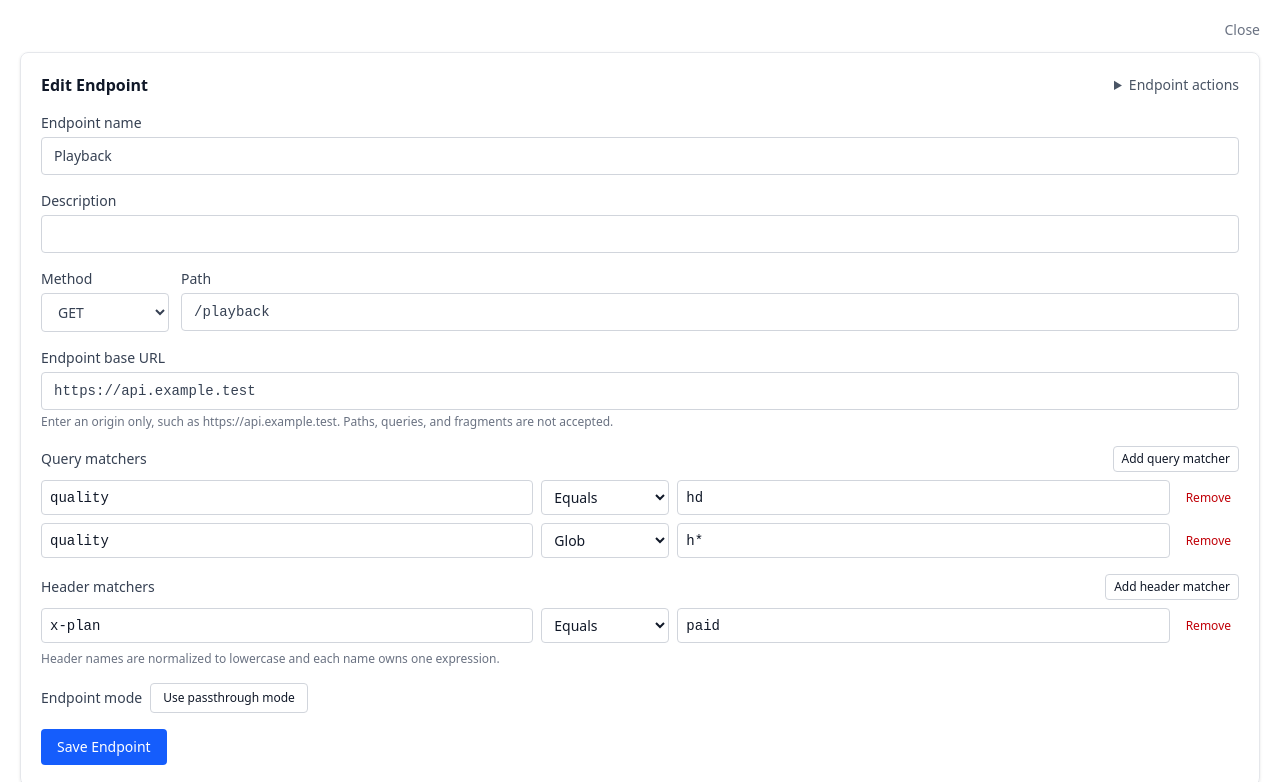
EndpointEditor › gives Endpoint mode one owner and preserves dirty matcher drafts on conflict
Replace the text in the field named "Endpoint path" with "/dirty-path" at (710, 312), box [181,293,1239,331]
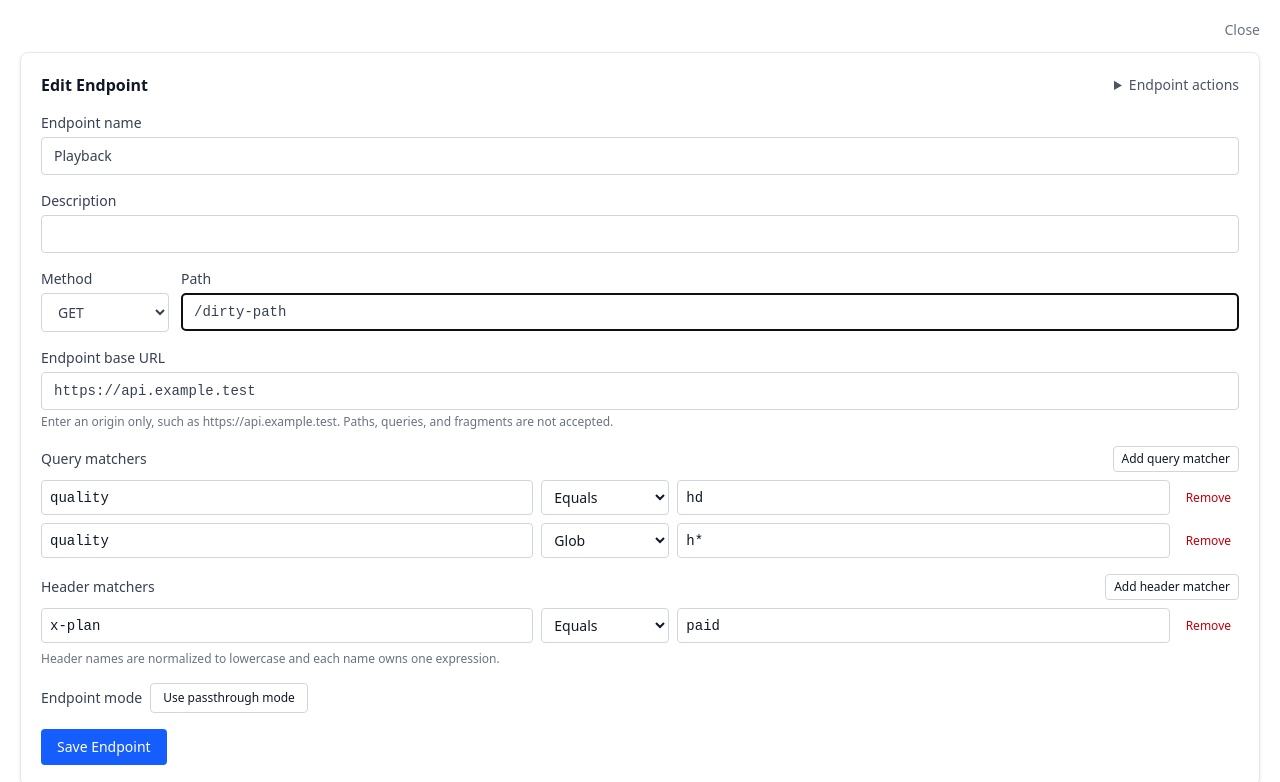
Click the button "Use passthrough mode" at (229, 698), box [150,683,308,713]
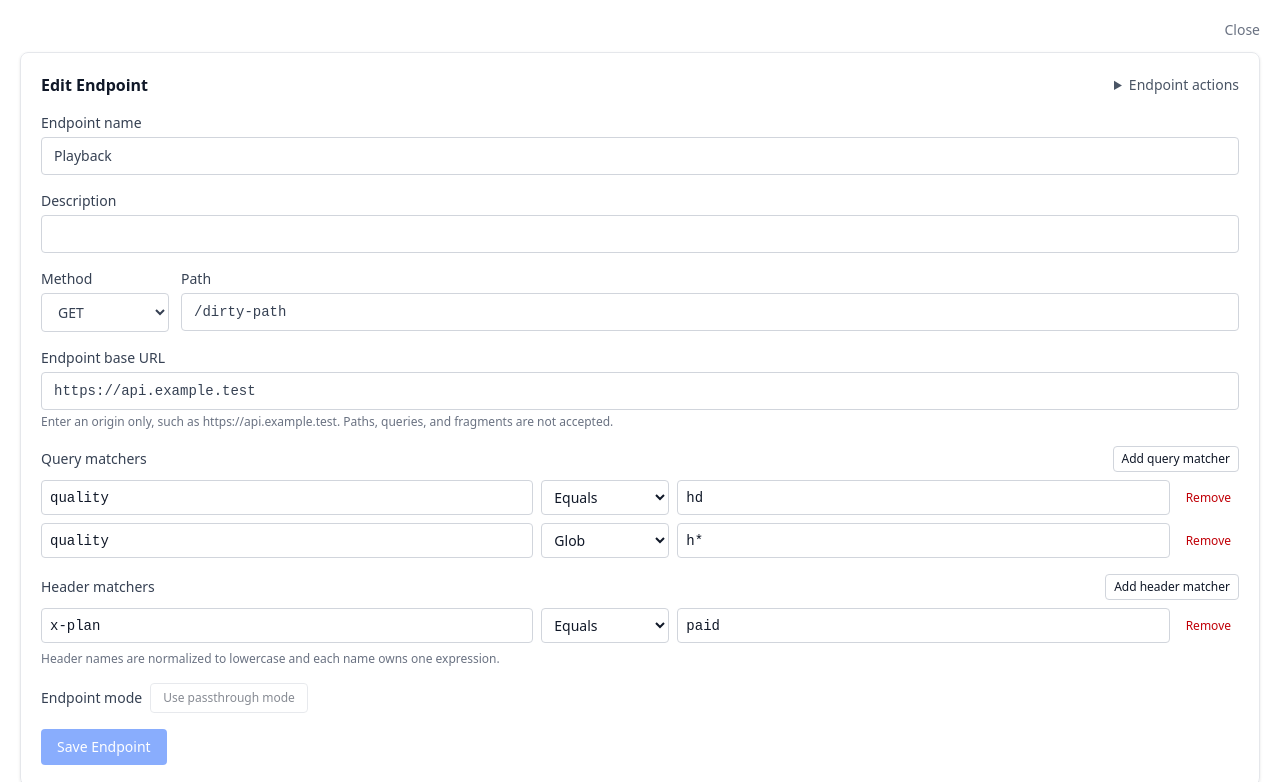
Click the button "Use passthrough mode" at (229, 698), box [150,683,308,713]
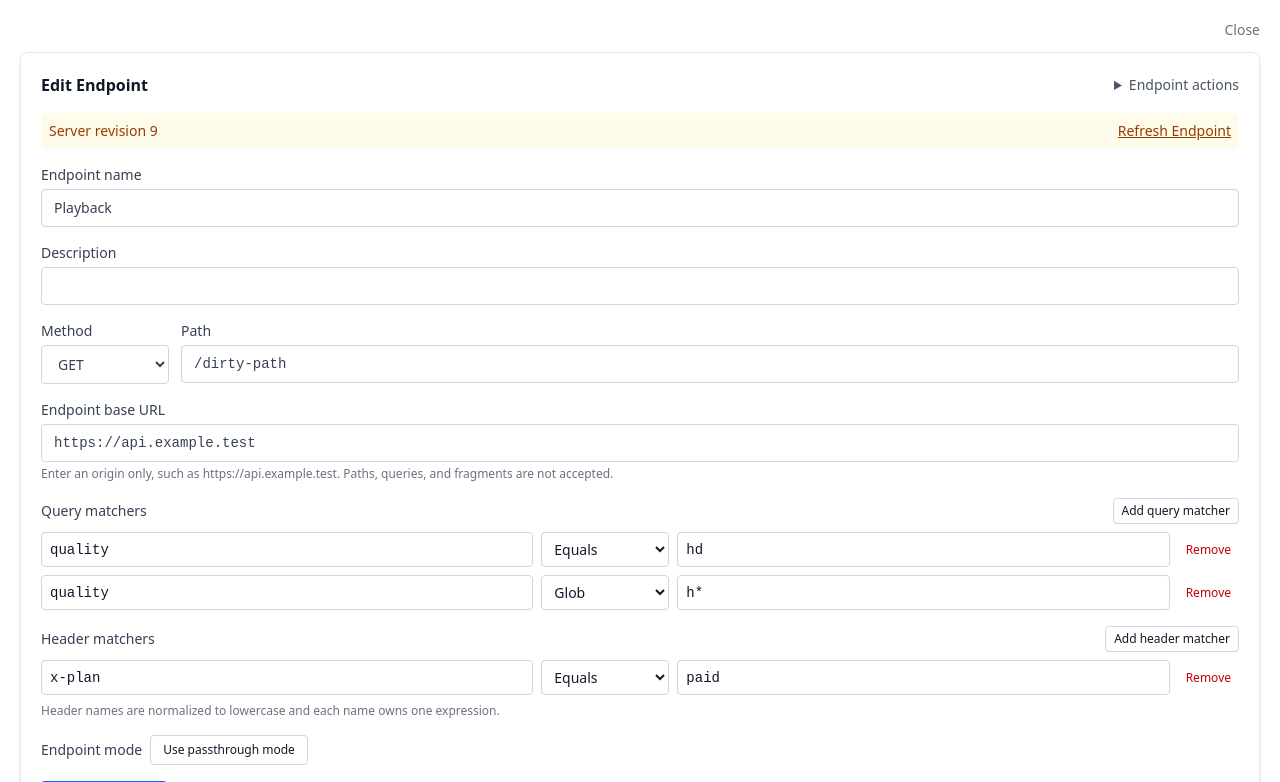
Expected: the text "Server revision 9" is shown, [49,121,158,141]
